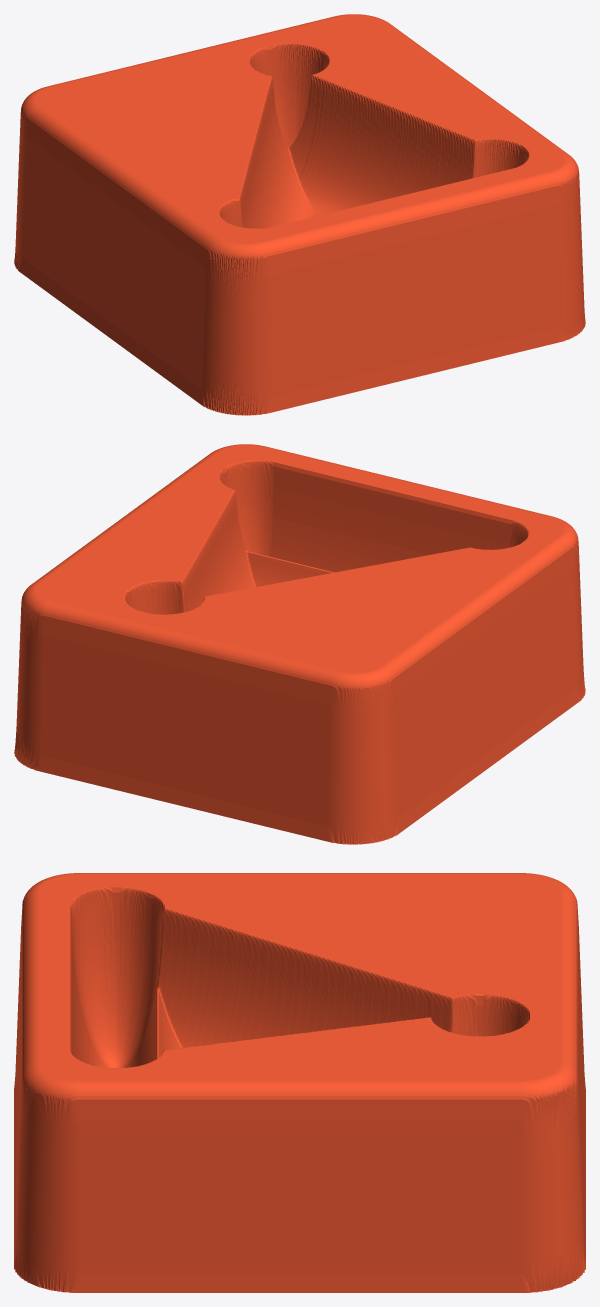
Rendered from mold.glb.
3 renders of one model, top to bottom at view 1: azimuth 30°, elevation 25°; view 2: azimuth 150°, elevation 25°; view 3: azimuth 270°, elevation 25°, orthographic. The views are drawn at different scales.
Visible parts, largest first — view 1: geometry_0; view 2: geometry_0; view 3: geometry_0.
Part boxes in pixels (x1,y1,x2,y2): geometry_0: (14,14,585,415); geometry_0: (14,444,585,844); geometry_0: (14,873,585,1292).
Size of the model in its own units: 0.0752 by 0.031 by 0.0798.
